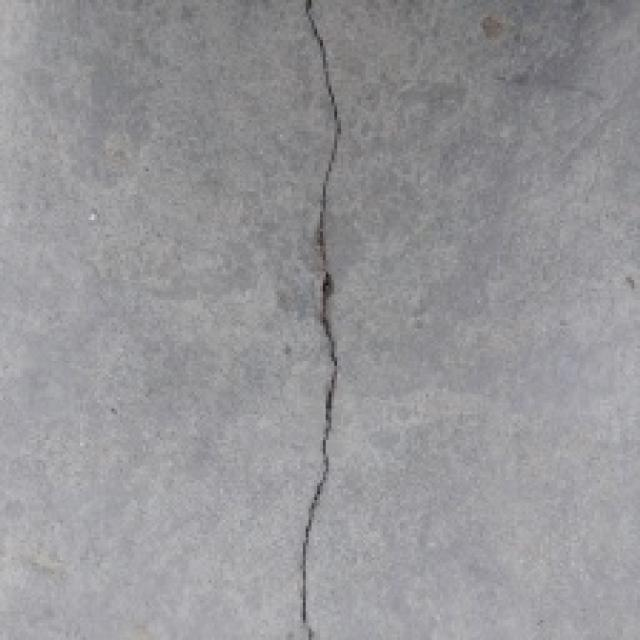crack: (248, 0, 356, 640)
